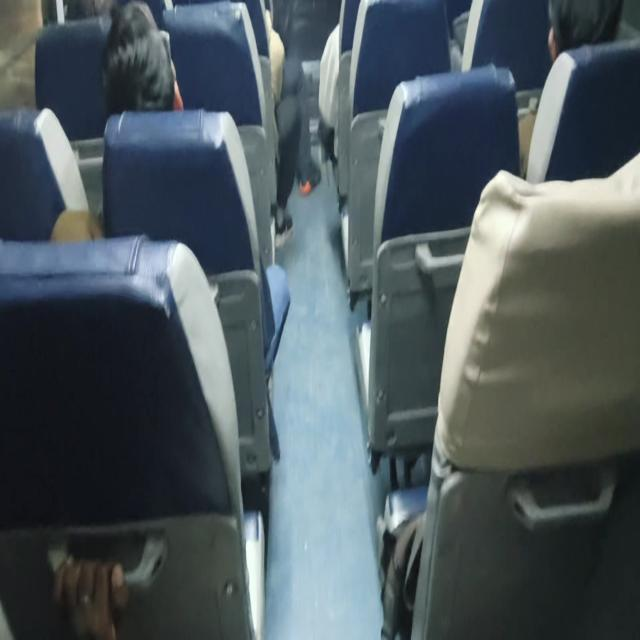person: (96, 0, 183, 112), (542, 0, 628, 77)
